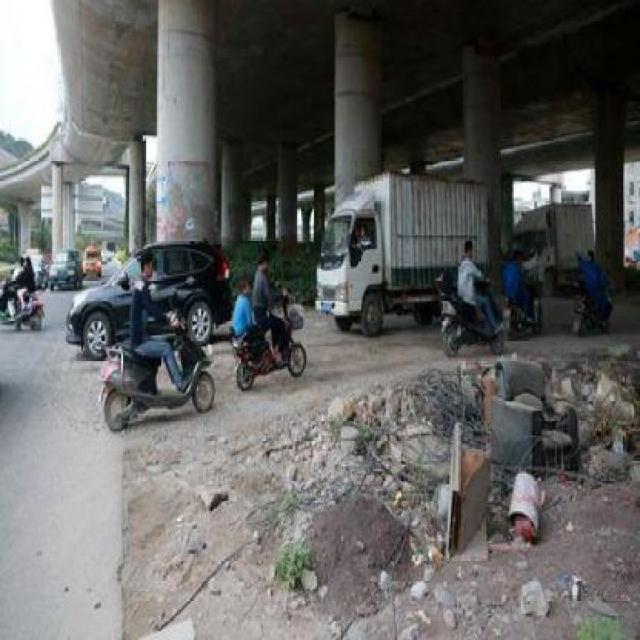garbage: (127, 344, 639, 637)
